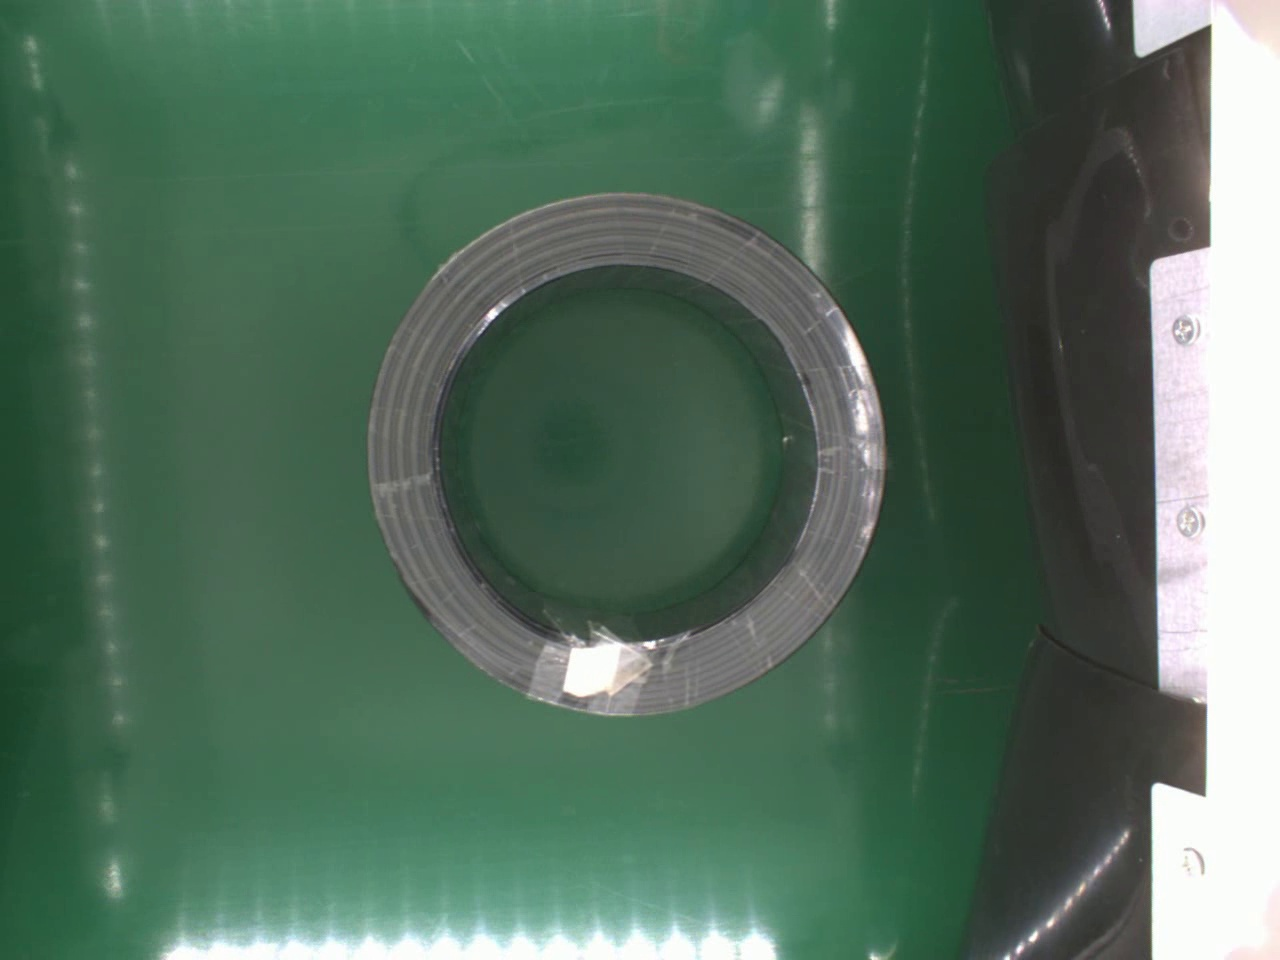black: (365, 183, 884, 721)
